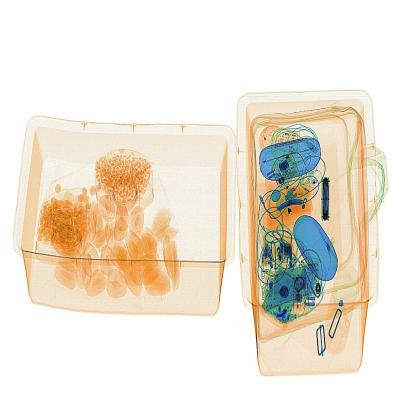scissors: (315, 174, 342, 225)
